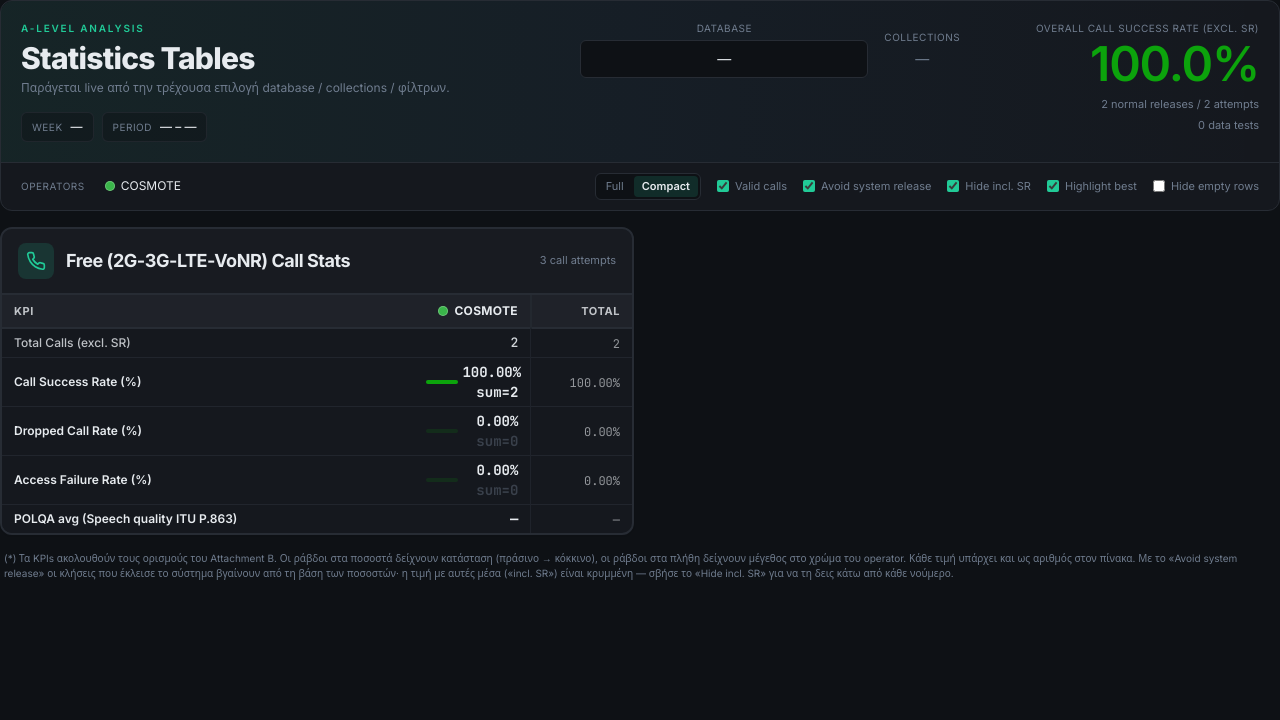
SummaryTab › incl. SR visibility › hides the 'incl. SR' secondary line by default — unchecking the checkbox reveals it
This screenshot has width=1280, height=720.
Expected: the text "incl. system releases" is not shown
Click the checkbox labelled "Hide incl. SR" at (953, 186), box 947,180 -> 959,192
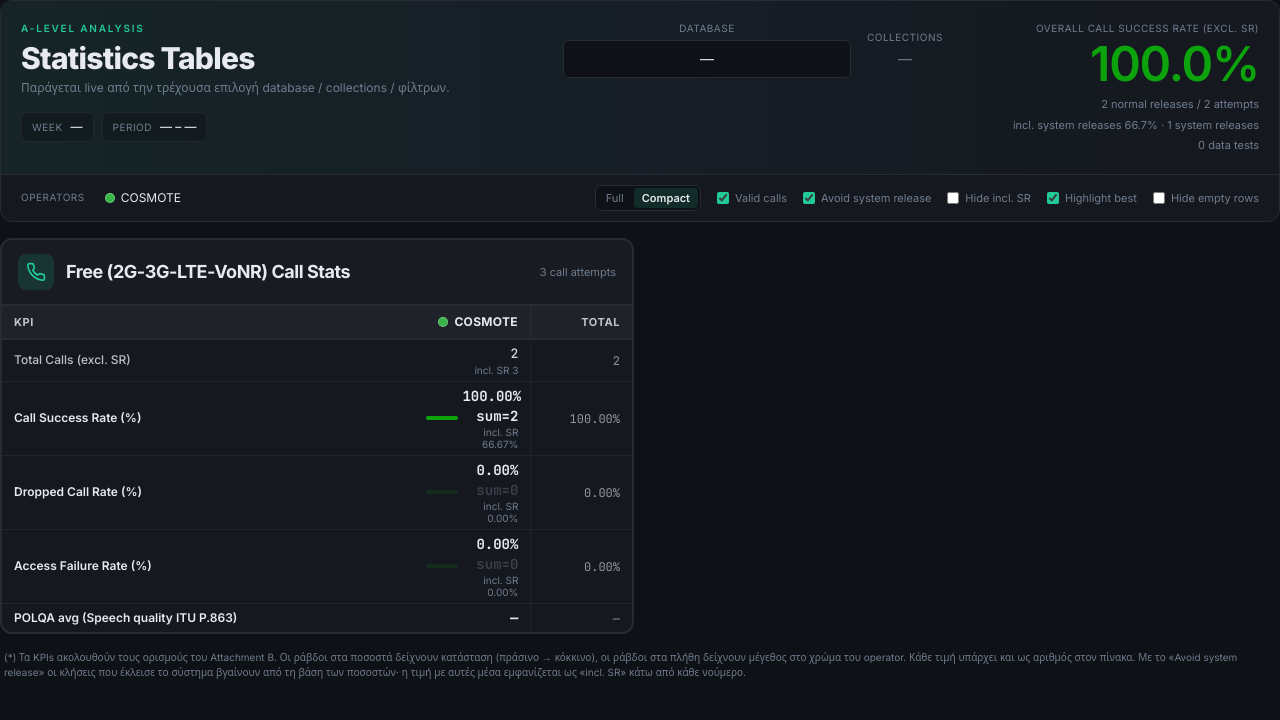
Result: the checkbox labelled "Hide incl. SR" is not checked at 947,192 -> 959,204
Result: the text "incl. SR 3" is shown at 474,364 -> 518,376
Result: the text "incl. system releases 66.7% · 1 system releases" is shown at 1013,116 -> 1259,133
